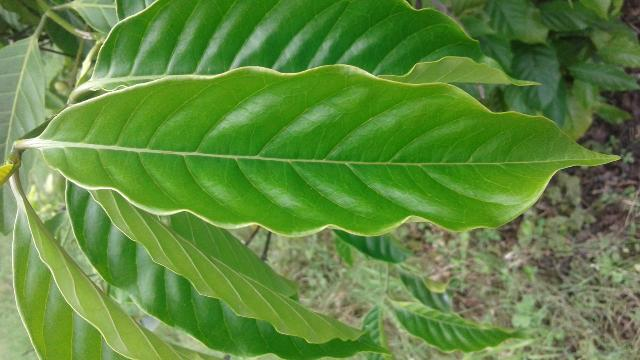healthy: (35, 64, 632, 238)
